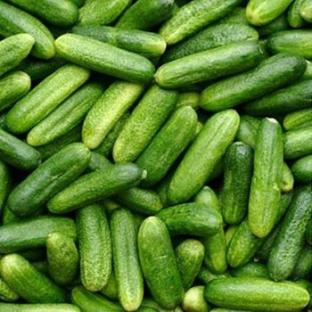Cucumber: (168, 110, 239, 203), (201, 54, 306, 111), (8, 143, 90, 215), (6, 65, 90, 133), (155, 42, 262, 88), (136, 107, 197, 187), (114, 86, 178, 162), (27, 83, 103, 146), (56, 34, 155, 82), (48, 164, 144, 213), (268, 185, 312, 280), (139, 217, 183, 309), (249, 119, 283, 238), (83, 82, 143, 148), (163, 23, 258, 62), (160, 0, 240, 44), (206, 278, 309, 311), (111, 209, 143, 311), (0, 1, 55, 59), (0, 255, 65, 303), (77, 204, 112, 292), (73, 26, 165, 58), (0, 216, 76, 253), (222, 142, 253, 224), (243, 80, 311, 116), (257, 193, 292, 262), (157, 203, 221, 237), (116, 0, 173, 30), (0, 129, 41, 170), (47, 232, 78, 285), (36, 125, 82, 160), (227, 221, 262, 267), (175, 239, 205, 290), (95, 113, 130, 156), (0, 33, 34, 75), (267, 29, 312, 60), (79, 0, 131, 25), (114, 188, 163, 214), (72, 287, 123, 311), (0, 72, 31, 111), (16, 57, 65, 81), (247, 0, 292, 25), (202, 228, 227, 273), (284, 126, 311, 158), (237, 115, 261, 147), (194, 186, 221, 212), (182, 286, 210, 311), (257, 15, 288, 37), (291, 245, 311, 279), (283, 108, 312, 131), (0, 160, 11, 214), (156, 171, 172, 208), (231, 263, 270, 278), (0, 304, 81, 311), (276, 192, 293, 224), (218, 7, 249, 24), (198, 267, 229, 284), (141, 298, 181, 311), (292, 155, 311, 182), (100, 272, 118, 300), (296, 280, 311, 310), (0, 279, 19, 302), (89, 152, 111, 171), (1, 206, 21, 225), (177, 92, 199, 109), (18, 248, 46, 261), (282, 163, 294, 192), (225, 226, 238, 246), (32, 261, 49, 276), (302, 60, 311, 79), (305, 221, 311, 245), (0, 113, 6, 129), (211, 308, 241, 311), (138, 307, 158, 311)
